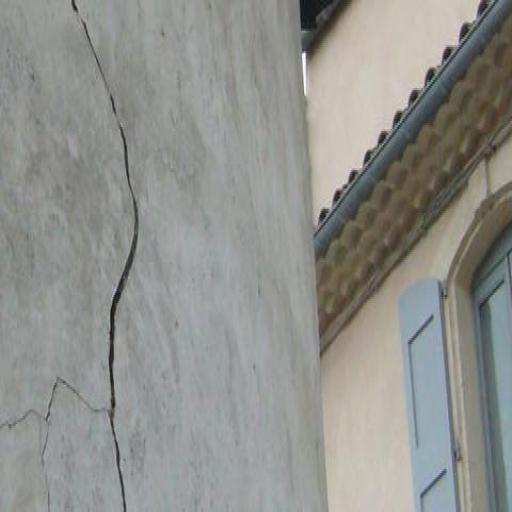spalling: (69, 4, 143, 512), (10, 367, 102, 440)
